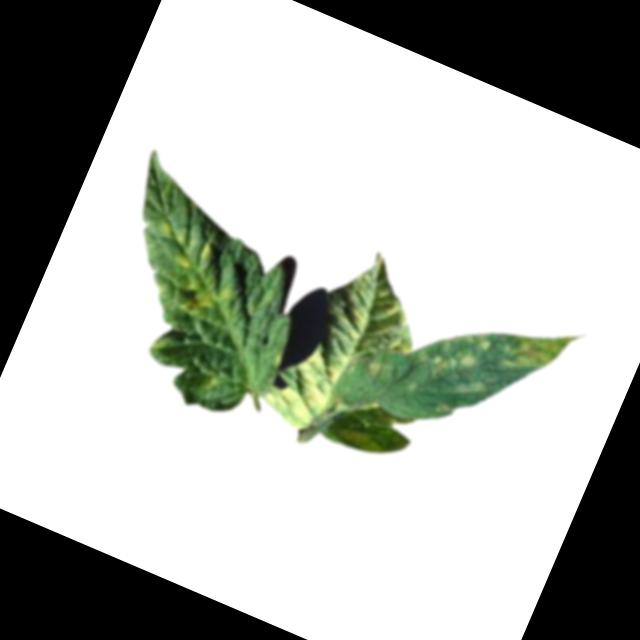Leaf_Mold: (258, 330, 350, 438), (497, 315, 571, 386), (147, 217, 218, 276), (411, 337, 477, 387), (175, 270, 231, 327), (459, 327, 495, 357), (358, 354, 392, 384)
